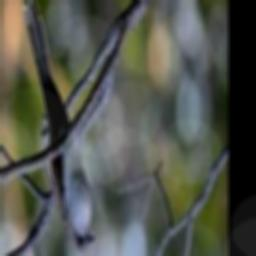Cuckoo: (23, 0, 95, 255)
